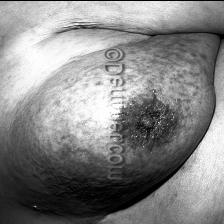Potentially Malignant Skin Tumors: (136, 60, 184, 96), (138, 104, 172, 154), (68, 116, 96, 172)
